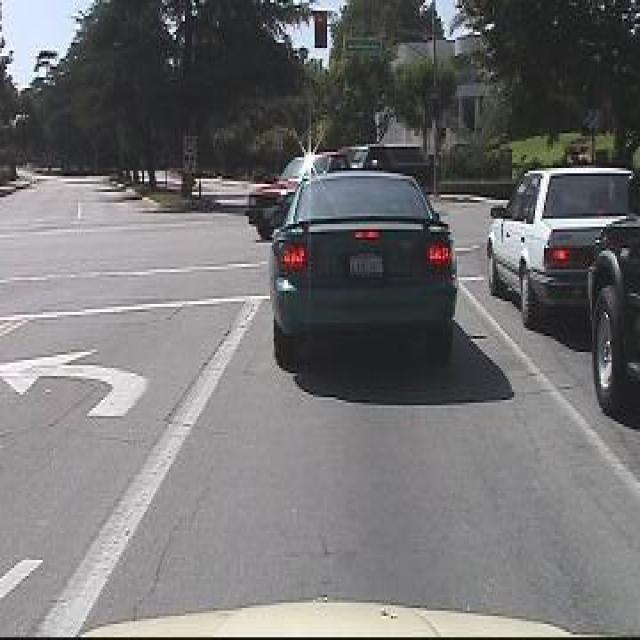car_back: (256, 166, 454, 366), (472, 150, 640, 328)
